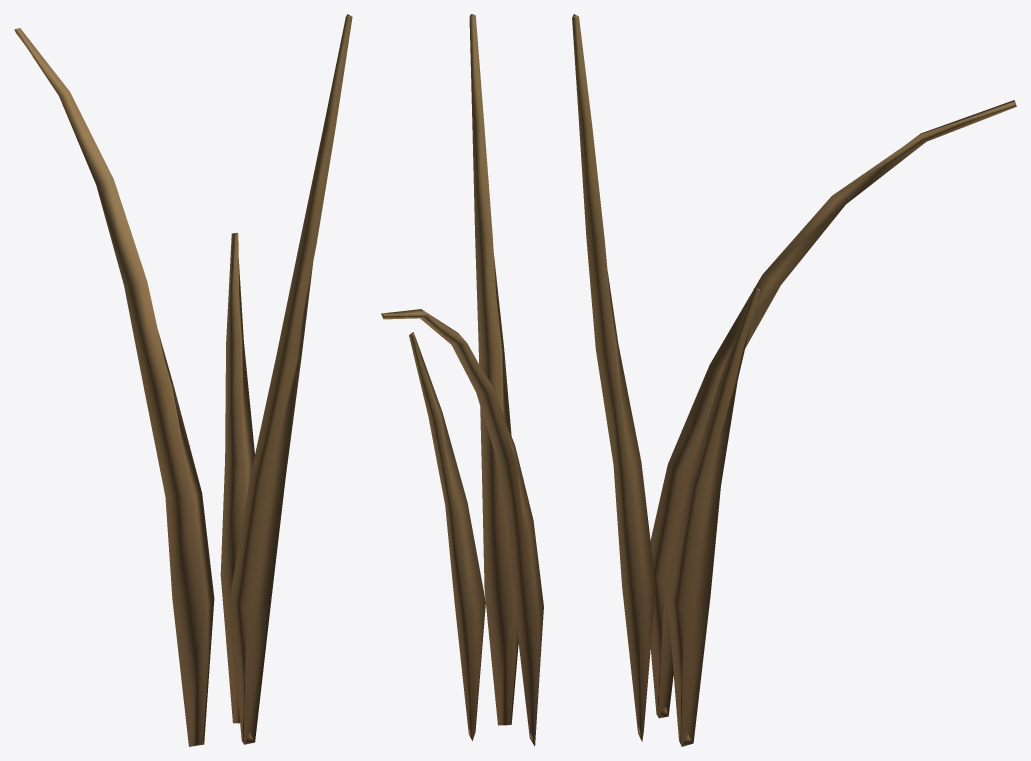
Rendered from trees-grasses-dry-grass-blades_v11.glb.
The picture shows the model from 3 angles, left to right: view 1: azimuth 30°, elevation 25°; view 2: azimuth 150°, elevation 25°; view 3: azimuth 270°, elevation 25°; orthographic projection. The views are drawn at different scales.
Visible parts, largest first — view 1: Dry Grass Blades_v11; view 2: Dry Grass Blades_v11; view 3: Dry Grass Blades_v11.
Part boxes in pixels (x1,y1,x2,y2): Dry Grass Blades_v11: (14, 14, 352, 746); Dry Grass Blades_v11: (381, 14, 543, 746); Dry Grass Blades_v11: (572, 14, 1016, 746).
Size of the model in its own units: 0.1095 by 0.6 by 0.3191.
